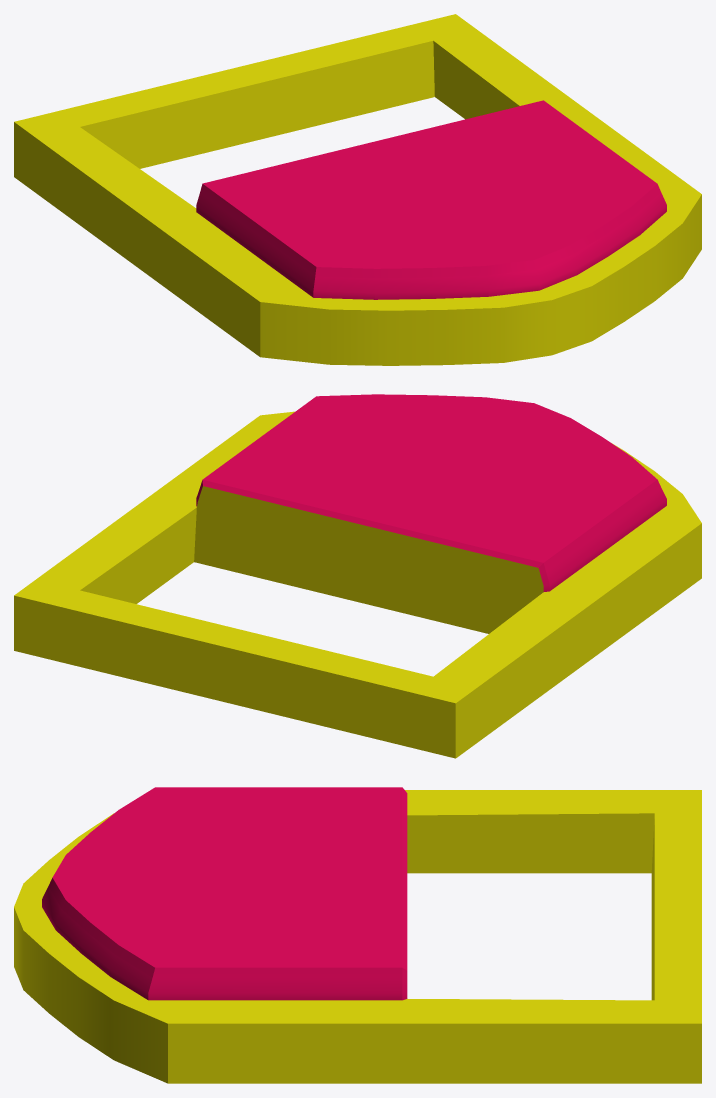
Rendered from chair_back_v3.fbx.
The picture shows the model from 3 angles, top to bottom: view 1: azimuth 30°, elevation 25°; view 2: azimuth 150°, elevation 25°; view 3: azimuth 270°, elevation 25°; orthographic projection. The views are drawn at different scales.
Visible parts, largest first — view 1: chair_back; view 2: chair_back; view 3: chair_back.
Part boxes in pixels (bbox=[...]): chair_back: bbox=[14, 14, 701, 365]; chair_back: bbox=[14, 394, 701, 758]; chair_back: bbox=[14, 787, 701, 1083].
Size of the model in its own units: 50 by 8.9 by 62.18.
